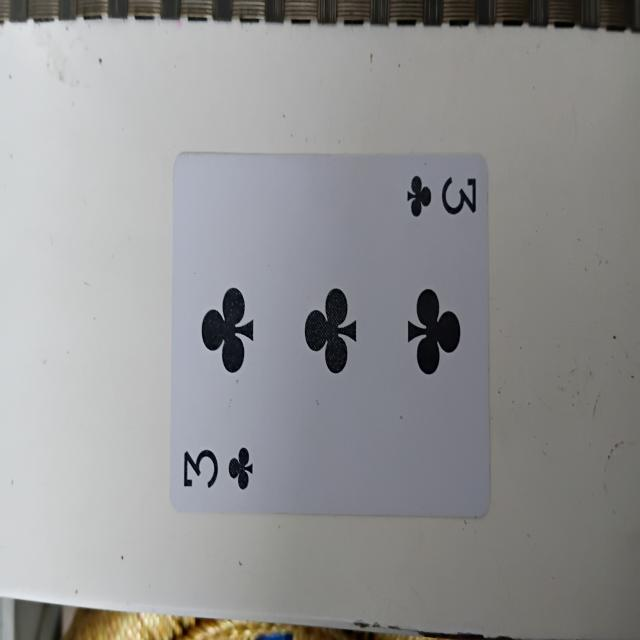3C: (172, 159, 491, 514)
